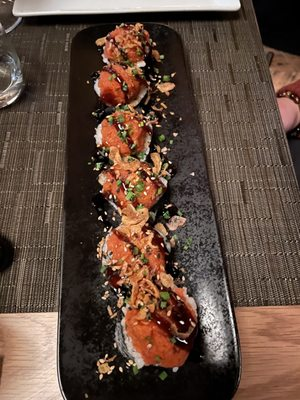curry: (0, 0, 299, 349)
